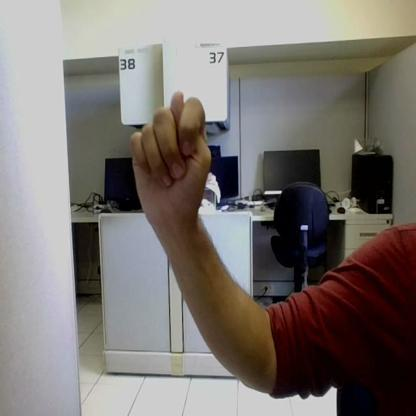T: (131, 92, 209, 209)
